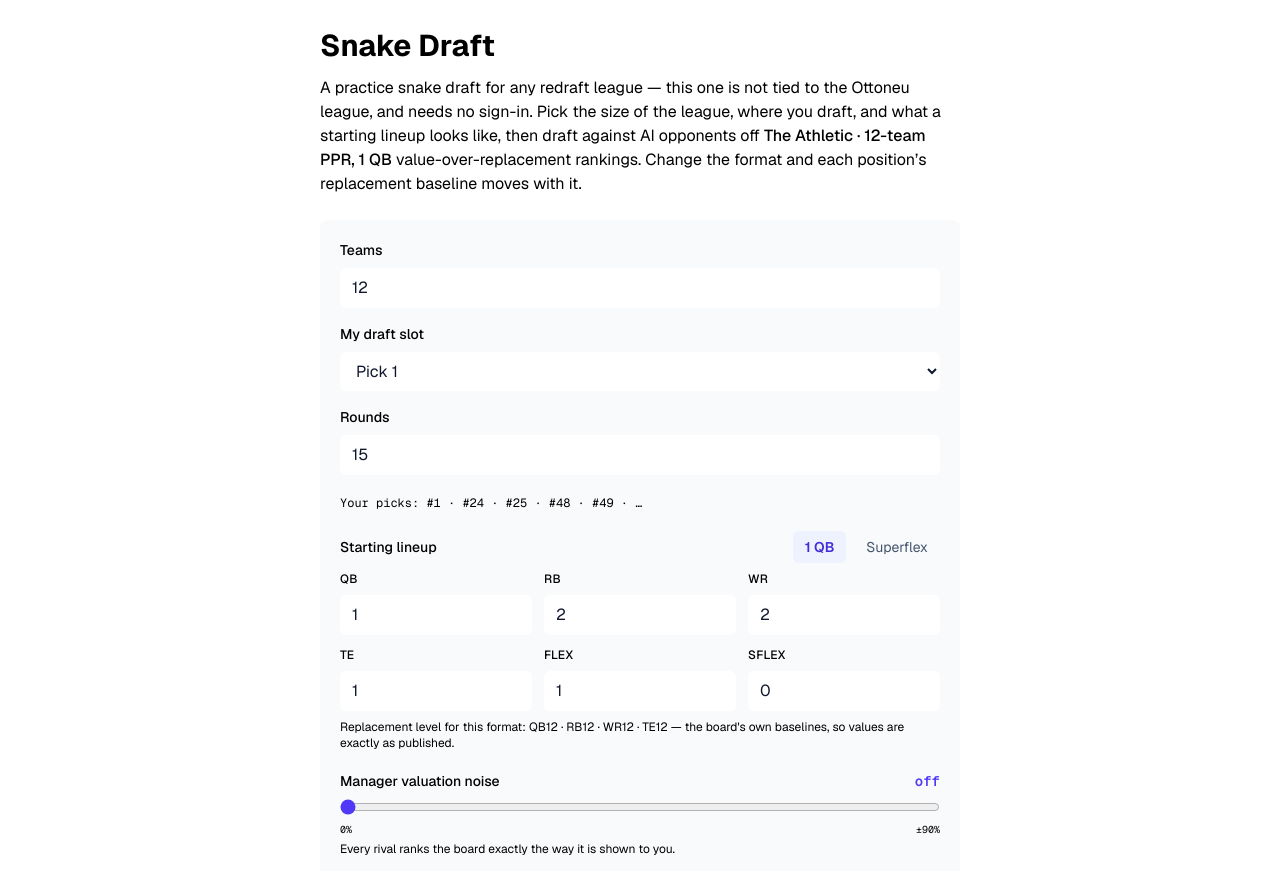
Test: SnakeDraftClient › runs bot picks up to the user's slot, then waits
Step 1. Replace the text in the number field labelled "Teams" with "4" → (640, 288), box 340,268 -> 940,308
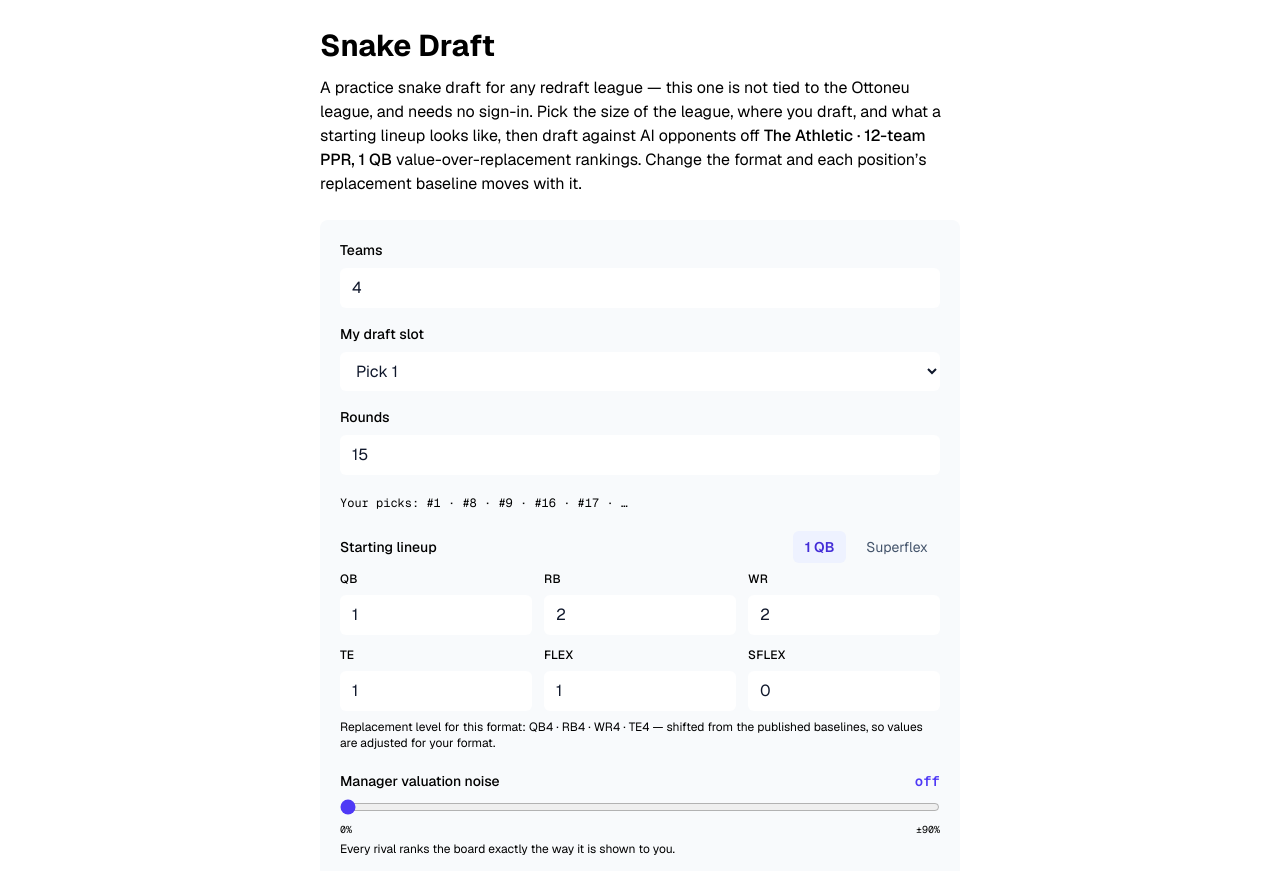
Step 2. Select "Pick 3" in the dropdown labelled "My draft slot" → (640, 372), box 340,352 -> 940,391
(page scrolled)
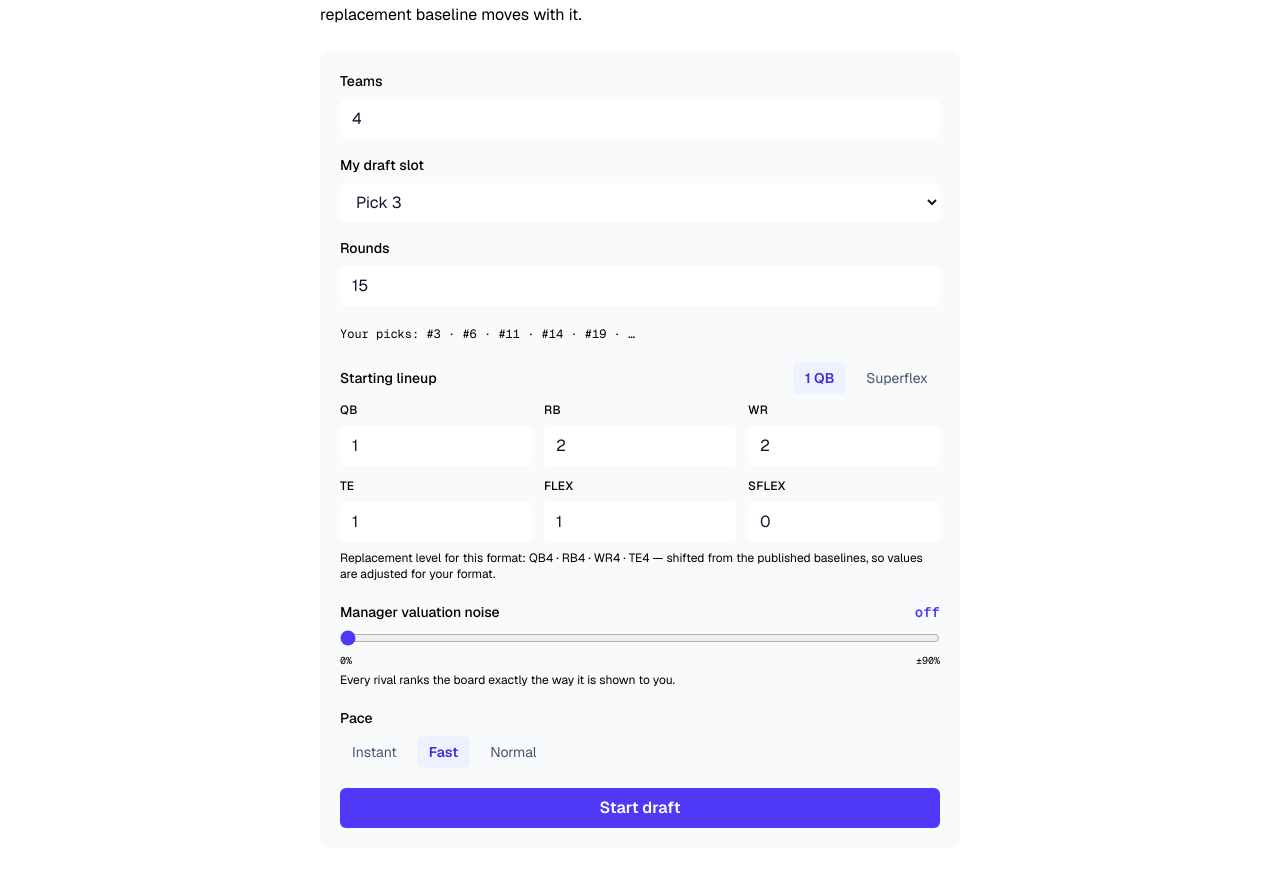
Step 3. Click the button "Start draft" → (640, 808), box 340,788 -> 940,828
Wait 4000 ms
(page scrolled)
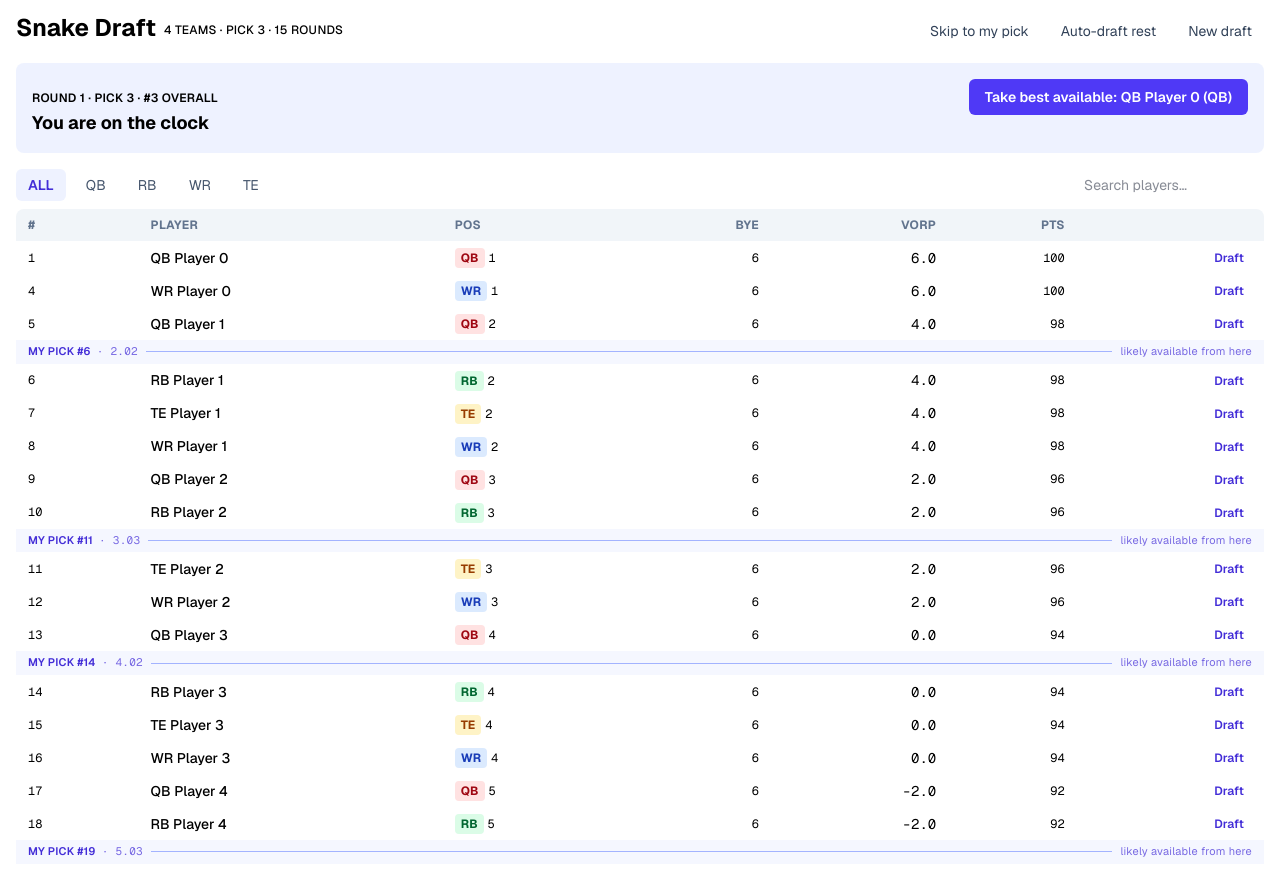
Result: the text "Round 1 · Pick 3 · #3 overall" is shown at 32,90 -> 218,106
Result: the text "You are on the clock" is shown at 32,109 -> 218,137
